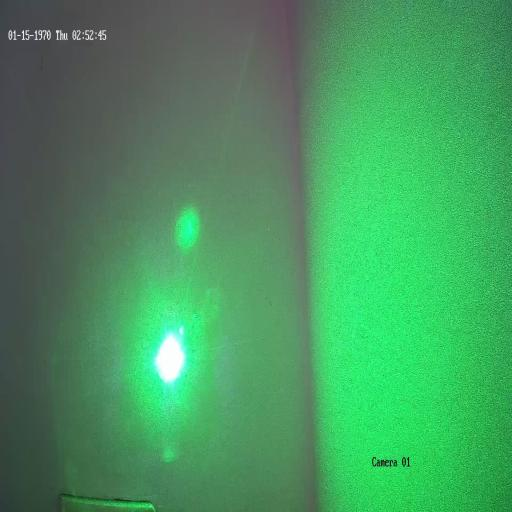laser: (146, 312, 194, 398)
